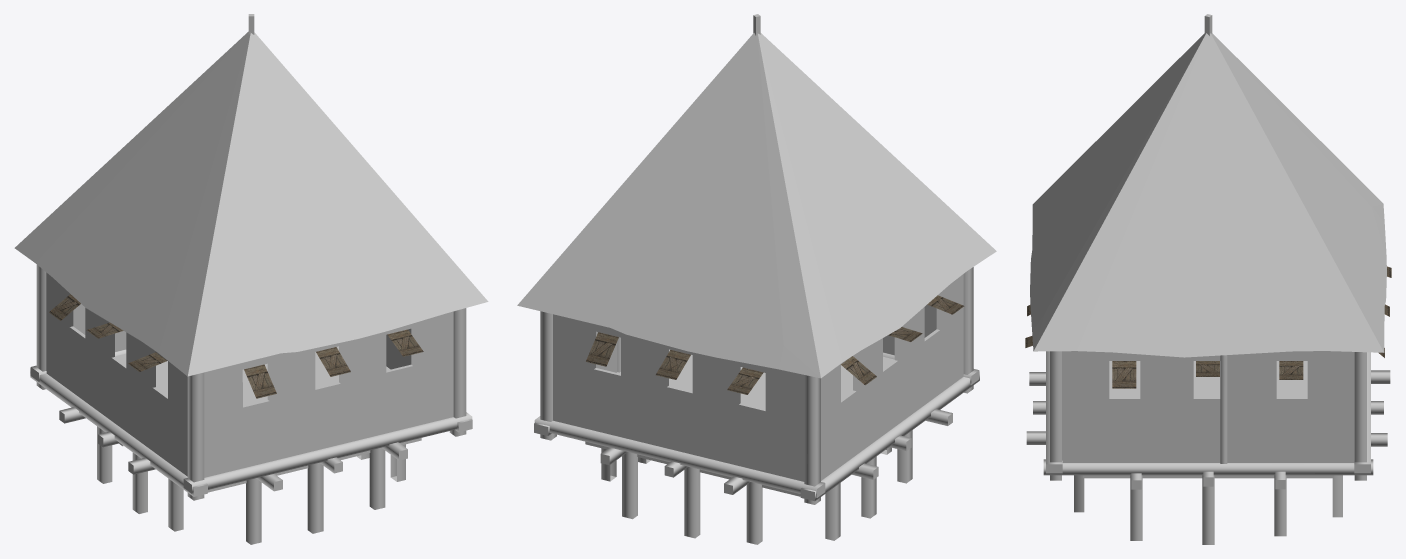
Rendered from Tower_top1_LOD1.fbx.
3 views of the same model, side by side, from view 1: azimuth 30°, elevation 25°; view 2: azimuth 150°, elevation 25°; view 3: azimuth 270°, elevation 25° (orthographic).
Visible parts, largest first — view 1: polySurface2148; view 2: polySurface2148; view 3: polySurface2148.
Part boxes in pixels (x1,y1,x2,y2): polySurface2148: (14, 14, 488, 544); polySurface2148: (517, 14, 996, 544); polySurface2148: (1025, 14, 1391, 544).
Size of the model in its own units: 10.28 by 14.48 by 10.18.
